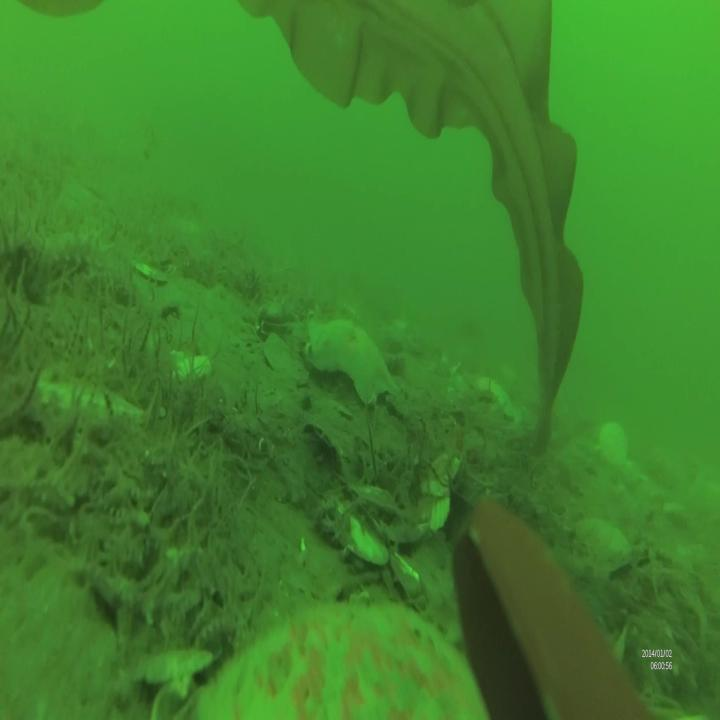scallop: (597, 418, 630, 466)
starfish: (193, 598, 498, 720), (309, 312, 400, 408), (468, 363, 520, 425)
